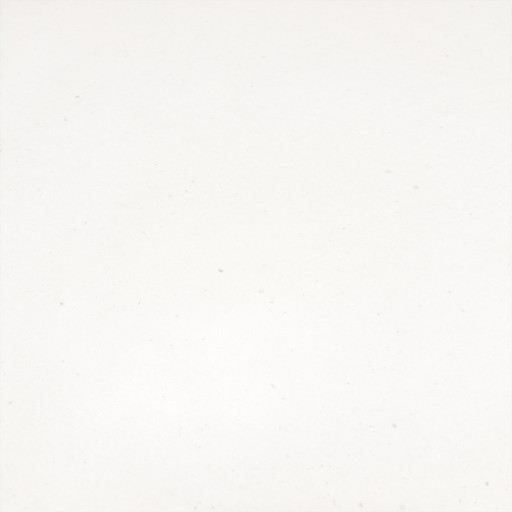lego: (207, 227, 306, 284)
